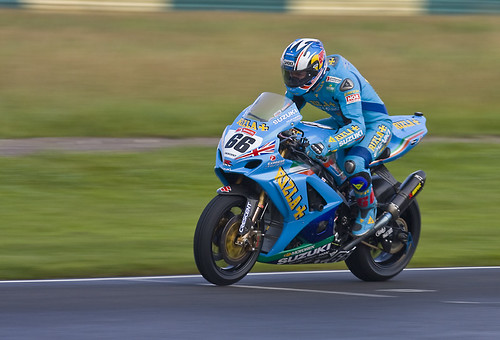helmet: (275, 30, 328, 98)
